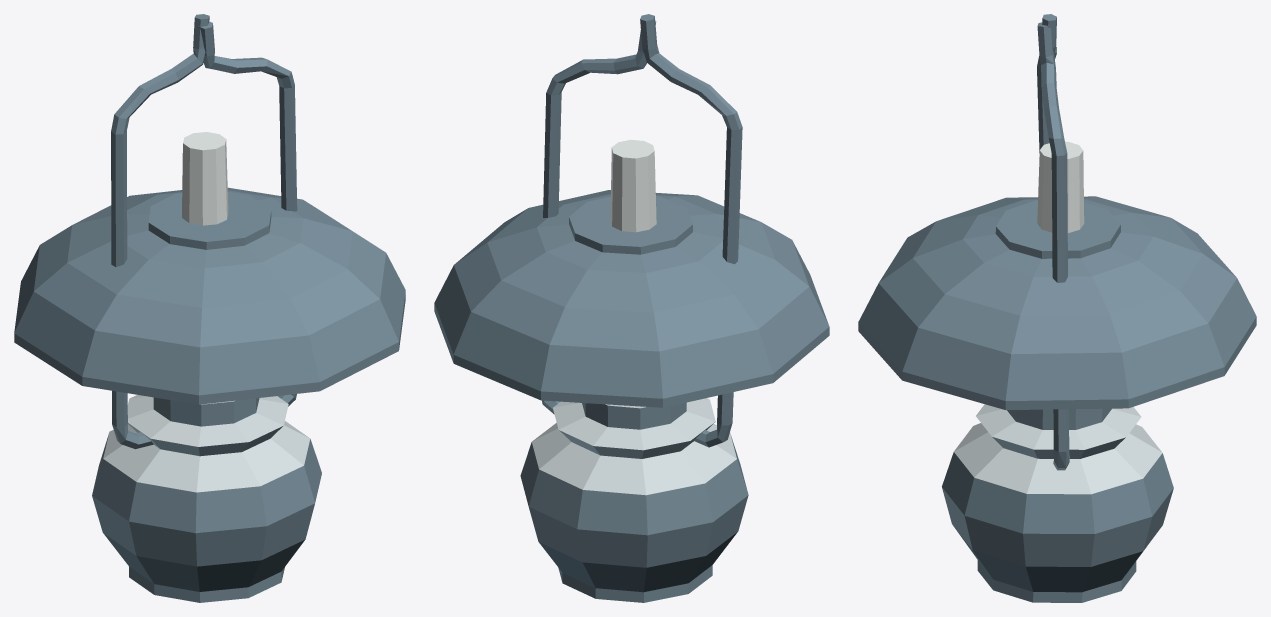
File: scene_N0txHNlGGf.glb
3 renders of one model, left to right at view 1: azimuth 30°, elevation 25°; view 2: azimuth 150°, elevation 25°; view 3: azimuth 270°, elevation 25°, orthographic.
Visible parts, largest first — view 1: Lantern; view 2: Lantern; view 3: Lantern.
Boxes of the visible parts, x1=… form: Lantern: x1=14, y1=14, x2=405, y2=602; Lantern: x1=434, y1=14, x2=829, y2=602; Lantern: x1=858, y1=14, x2=1256, y2=602.
Size of the model in its own units: 0.5682 by 0.8959 by 0.5877.
